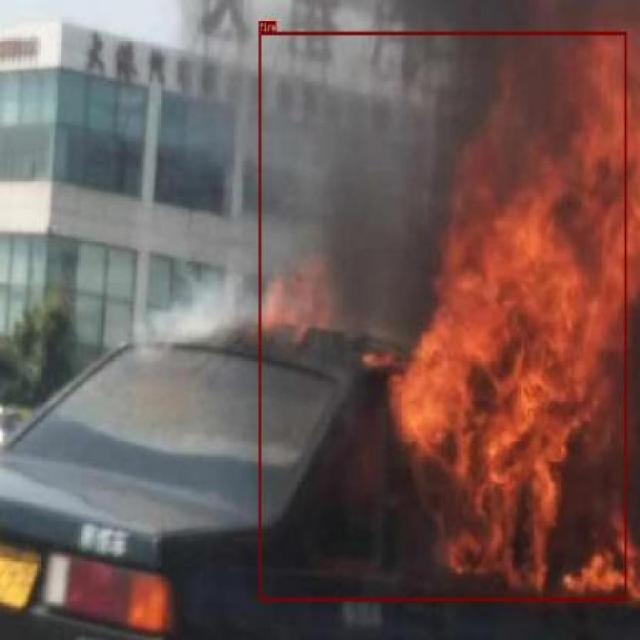Fire: (258, 31, 626, 600)
